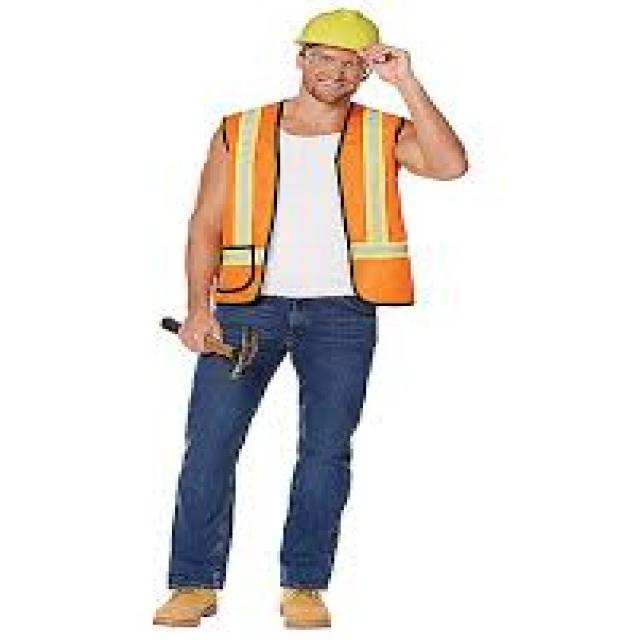Reflective-Jacket: (201, 97, 417, 314)
Safety-Helmet: (277, 3, 392, 61)
